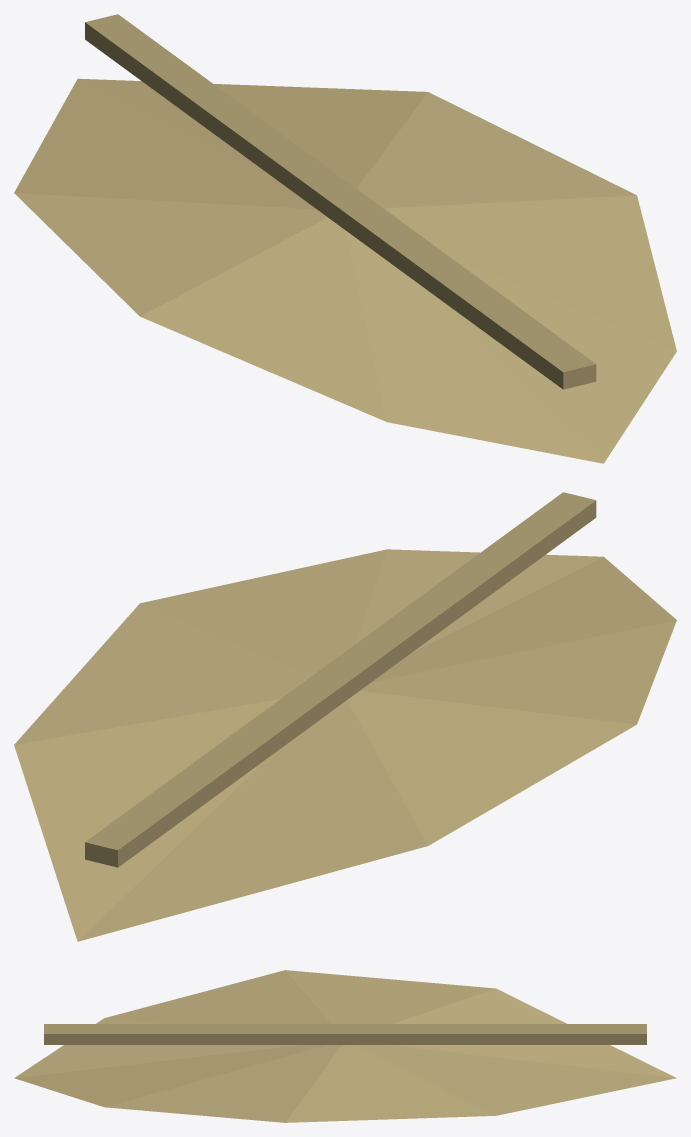
Rendered from dry_leaf_2.gltf.
The picture shows the model from 3 angles, top to bottom: view 1: azimuth 30°, elevation 25°; view 2: azimuth 150°, elevation 25°; view 3: azimuth 270°, elevation 25°; orthographic projection. The views are drawn at different scales.
Visible parts, largest first — view 1: dry_leaf_2; view 2: dry_leaf_2; view 3: dry_leaf_2.
Boxes of the visible parts, box(x1,y1,x2,y2) form: dry_leaf_2: box(14, 14, 676, 463); dry_leaf_2: box(14, 492, 676, 941); dry_leaf_2: box(14, 970, 676, 1122).
Size of the model in its own units: 0.12 by 0.018 by 0.22.
